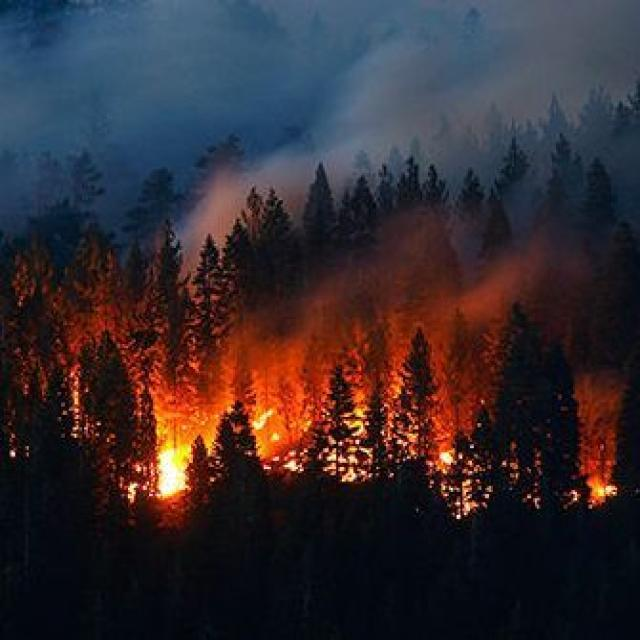Fire: (276, 410, 447, 468), (154, 442, 199, 500)
Smoke: (109, 18, 608, 412)
